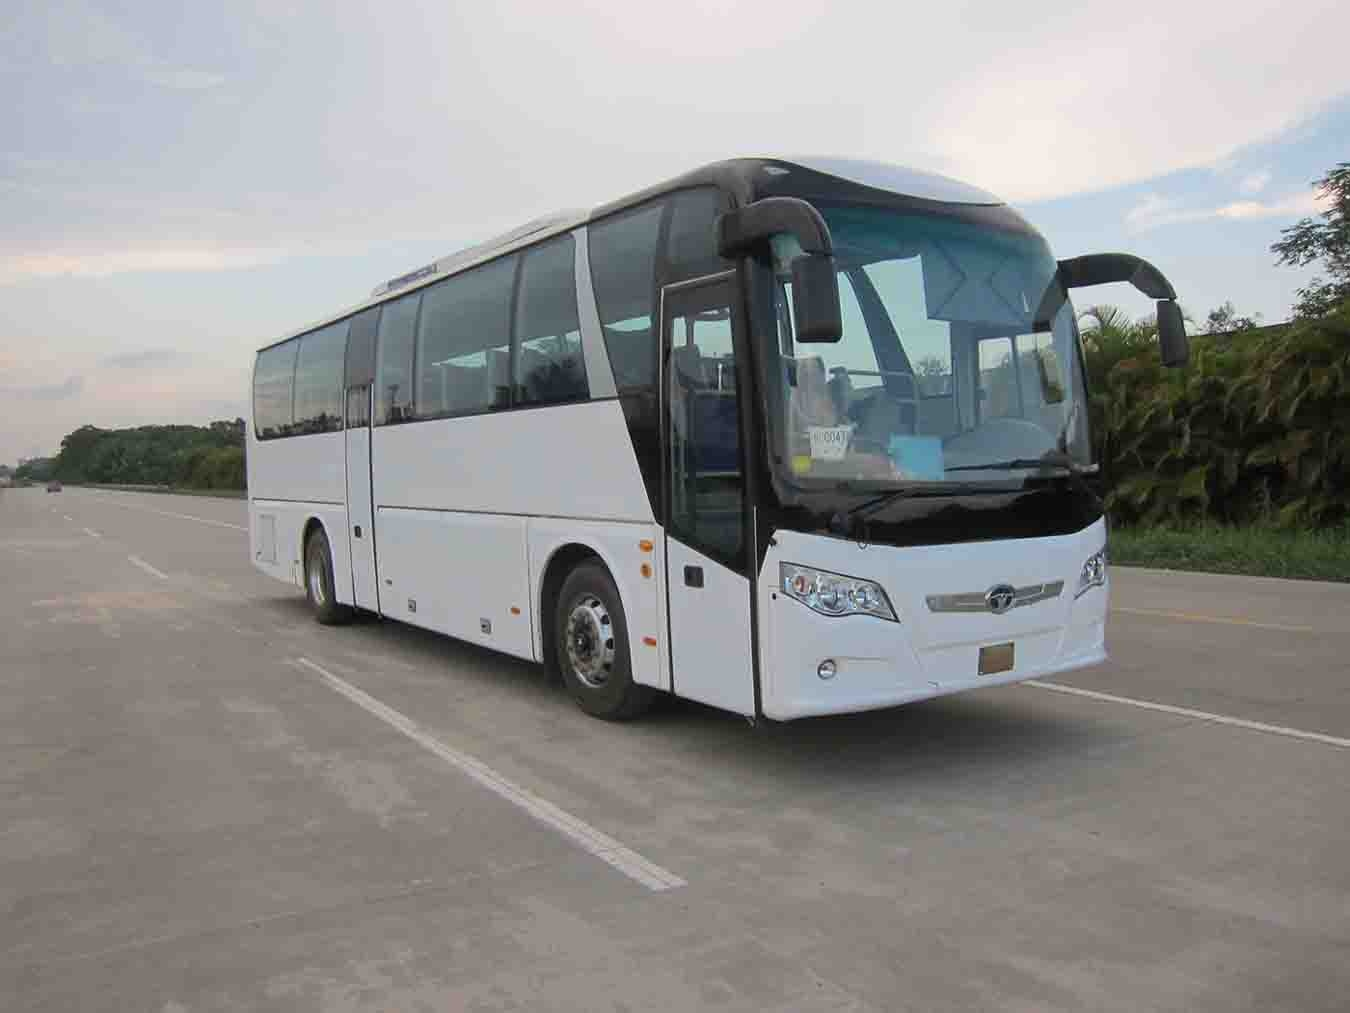bus: (206, 155, 1152, 760)
